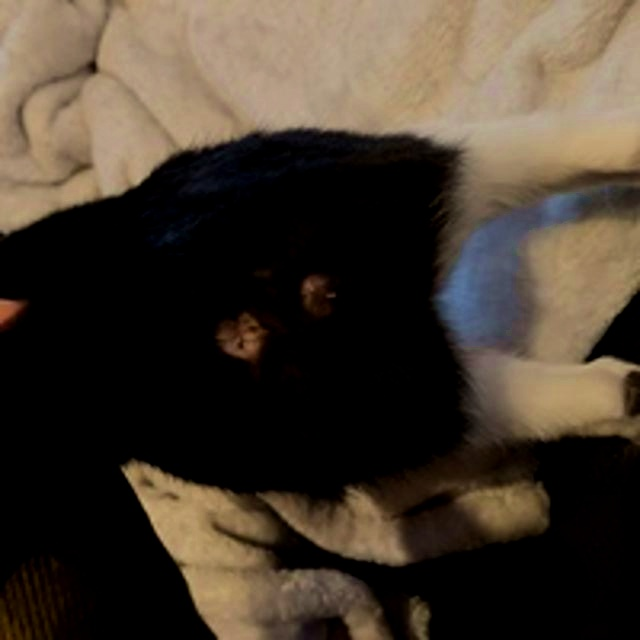lump_and_bump: (215, 315, 267, 355), (298, 275, 341, 314)
